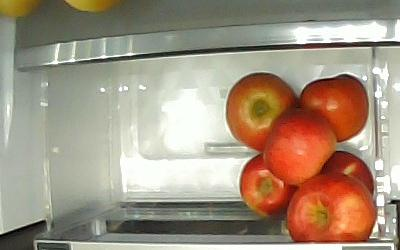apple: (285, 170, 377, 243), (261, 104, 337, 187), (224, 71, 299, 151), (297, 72, 369, 143), (238, 150, 299, 218), (317, 149, 374, 199)
